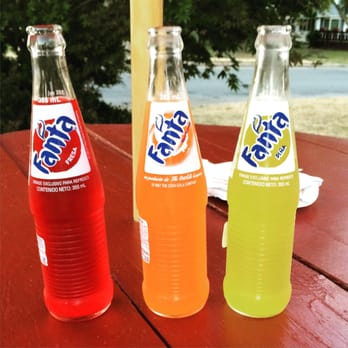fanta: (133, 40, 212, 311)
